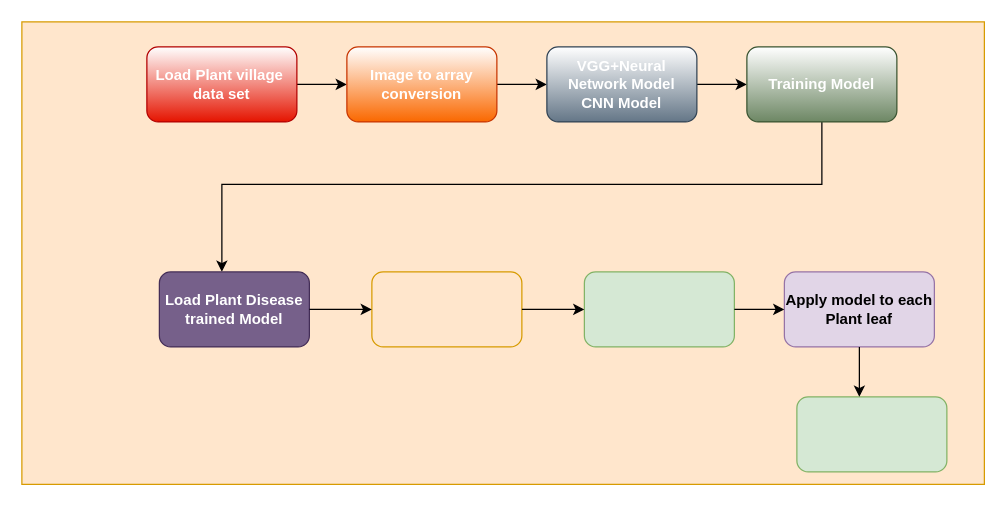
This 1006x506 diagram has some shape labels left out. Here are the shapes that lost their labels. From the top down, the centre of each, then its label:
At (446,309): "Pass Plant Disease Image".
At (658,309): "Image Pre Processing".
At (871,434): "Show Results".
